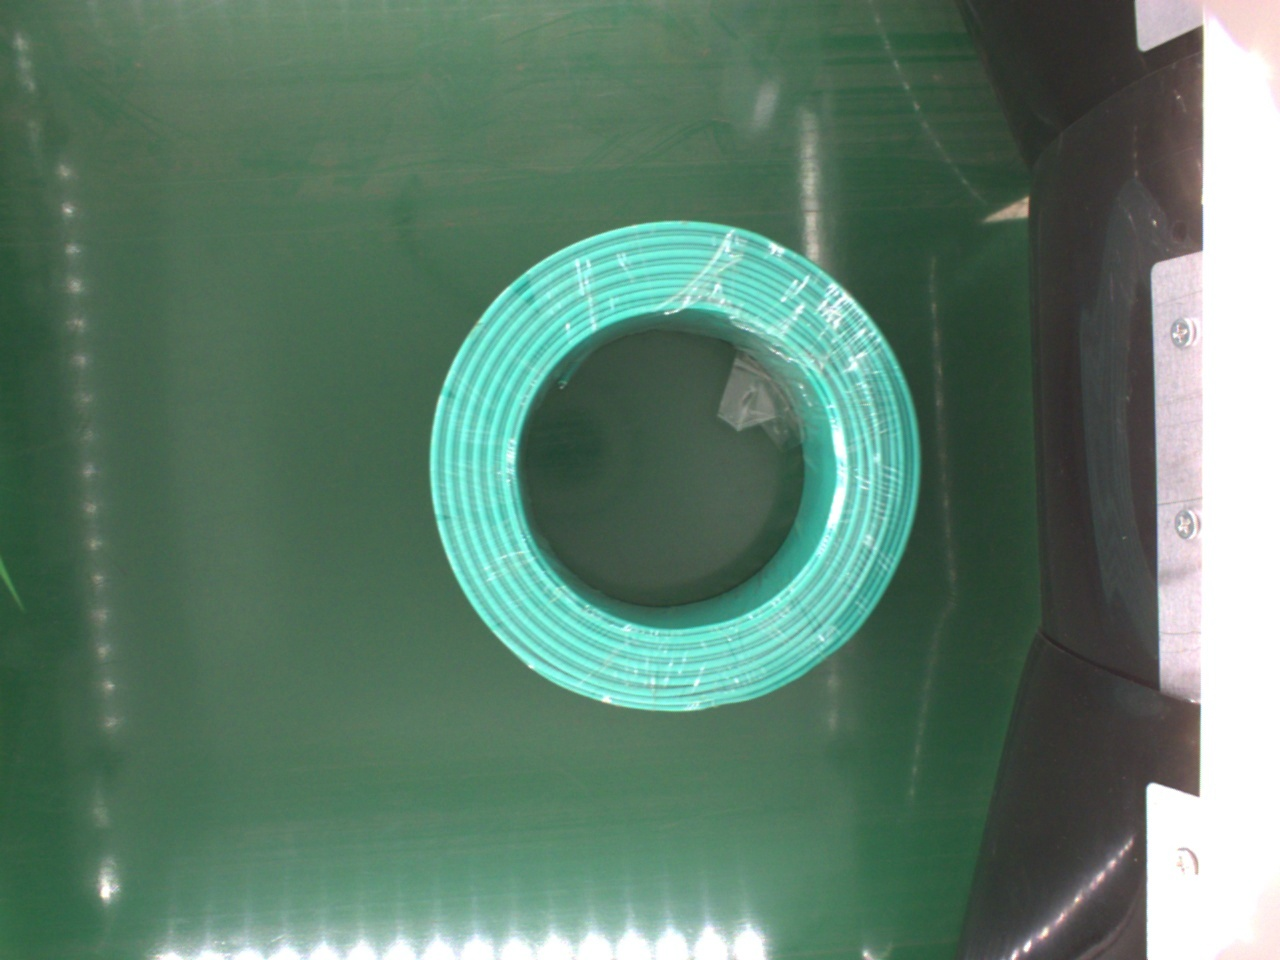green: (425, 217, 922, 717)
